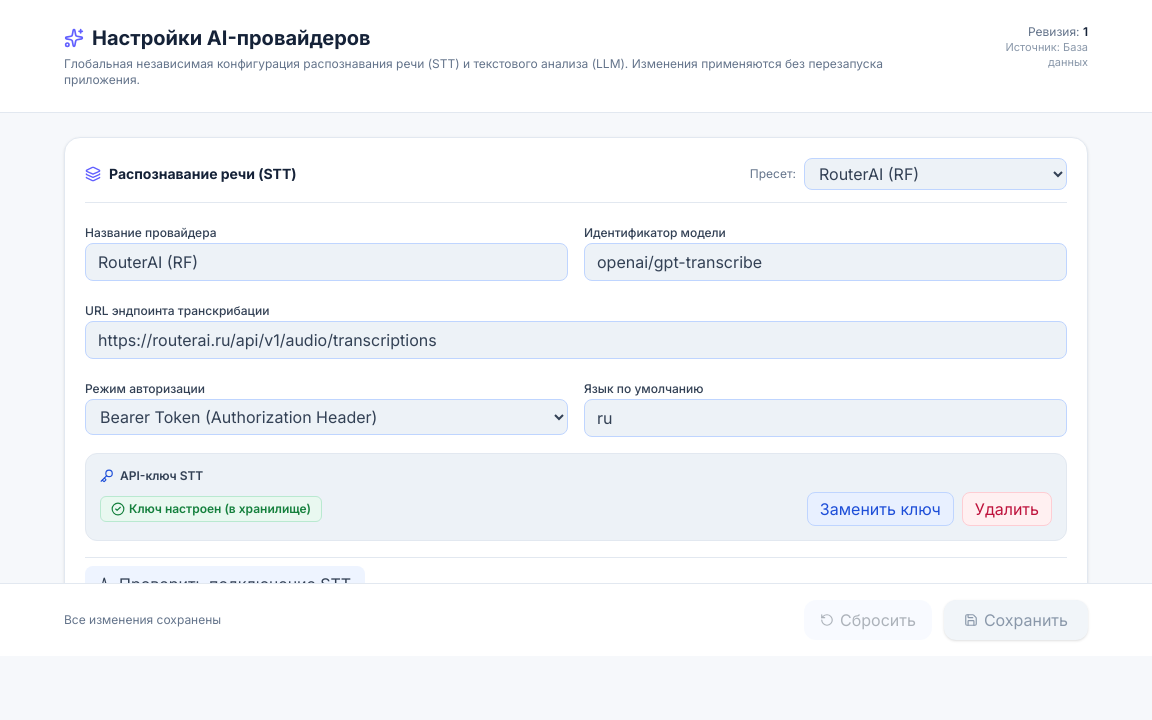
Test: SettingsScreen Component › displays 409 conflict and refreshes settings
Check: the text "Настройки AI-провайдеров" is shown, box [92,24,371,52]
# Modify a field to make form dirty
Step 1. Replace the text in the field showing "openai/gpt-transcribe" below "Идентификатор модели" with "custom-whisper" → (826, 262), box [584,243,1067,281]
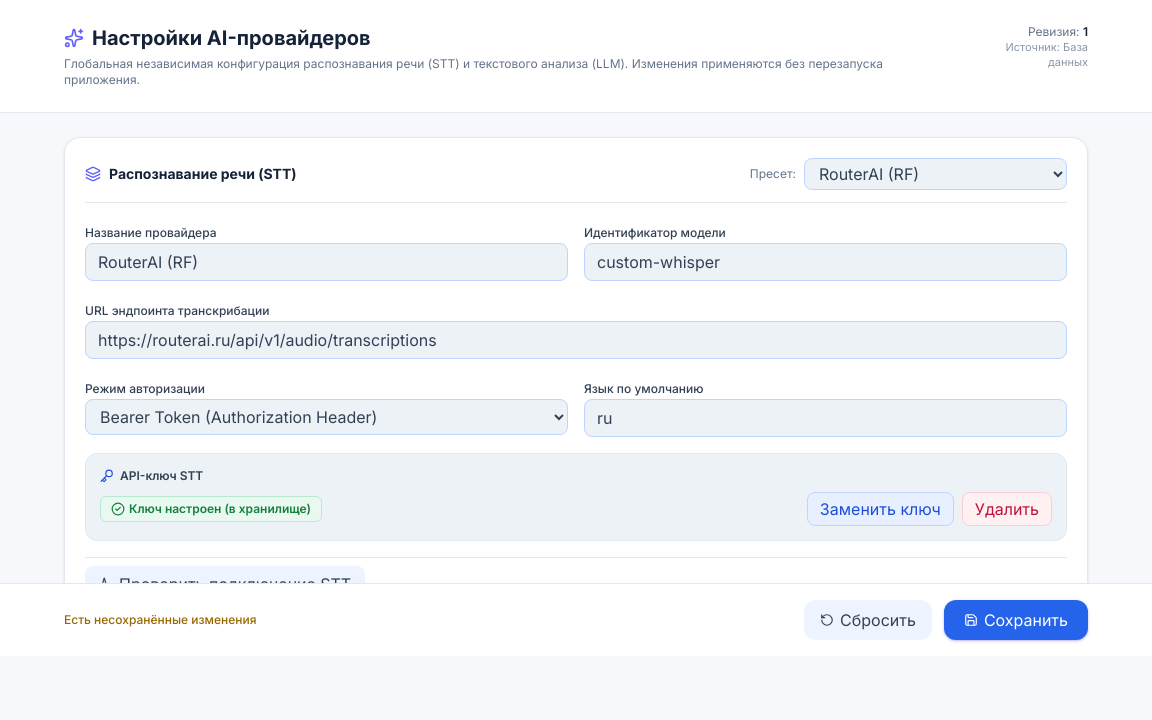
Step 2. Click the button "Сохранить" → click(1016, 620), box [944,600,1088,640]
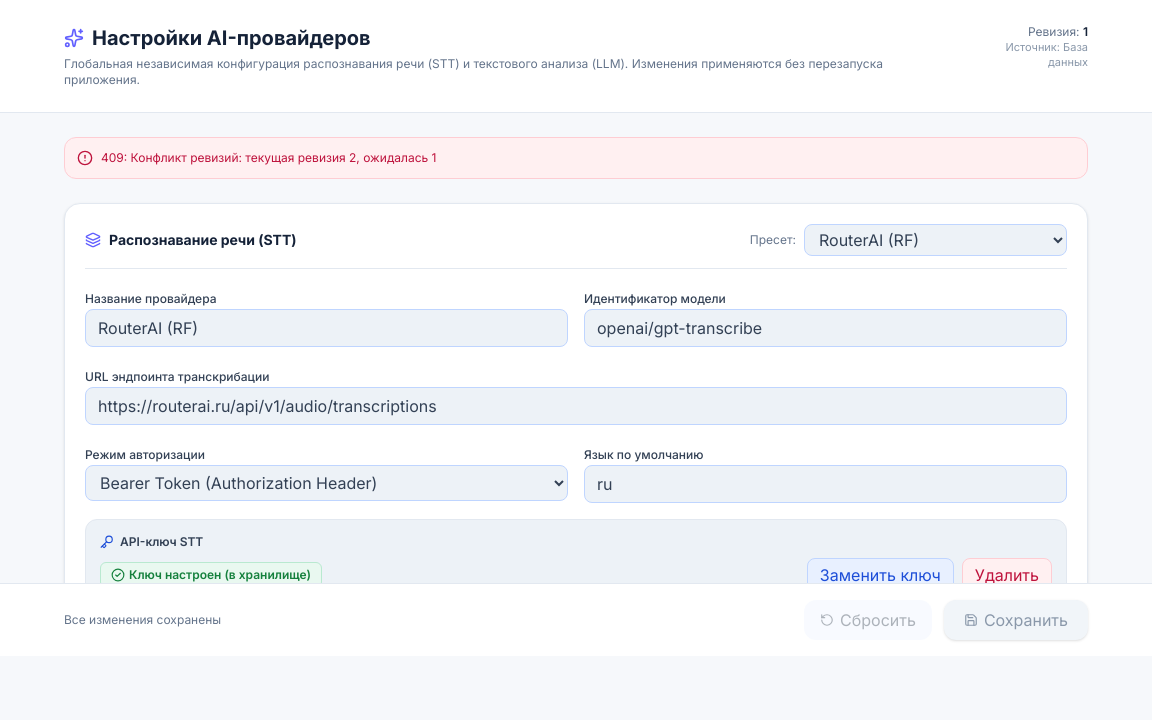
Check: the text "409: Конфликт ревизий: текущая ревизия 2, ожидалась 1" is shown, box [101,150,436,166]
